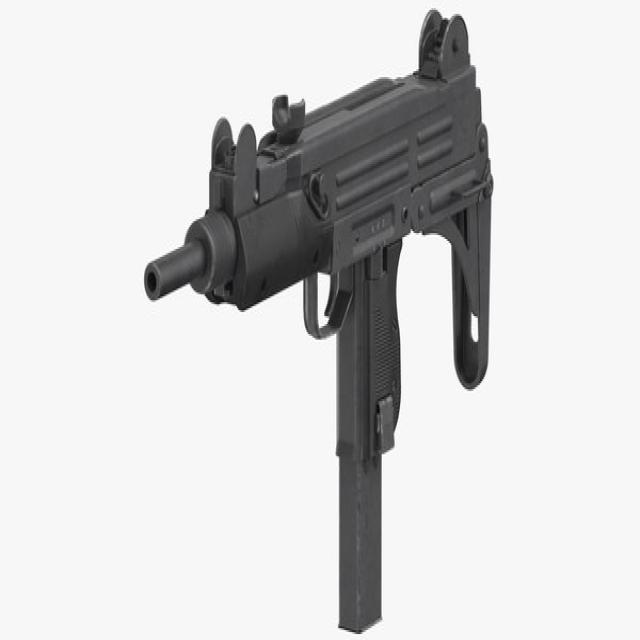SMG: (143, 12, 495, 634)
